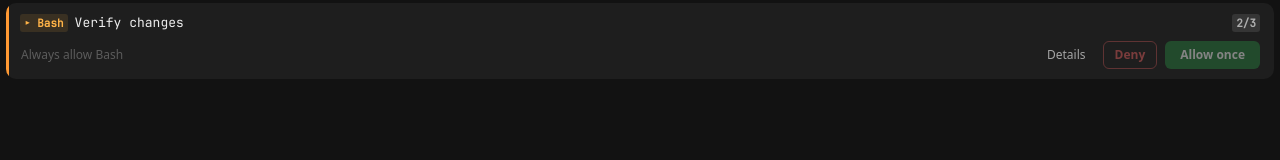
Test: RequestCard › lets users inspect an inline request whose turn to decide has not arrived
expect the text "Verify changes" is shown: met, box x1=75 y1=13 x2=184 y2=32
expect the button "Allow once" is disabled: met, box x1=1165 y1=40 x2=1260 y2=69
Click the button "Details" at (1066, 55), box x1=1038 y1=40 x2=1094 y2=69
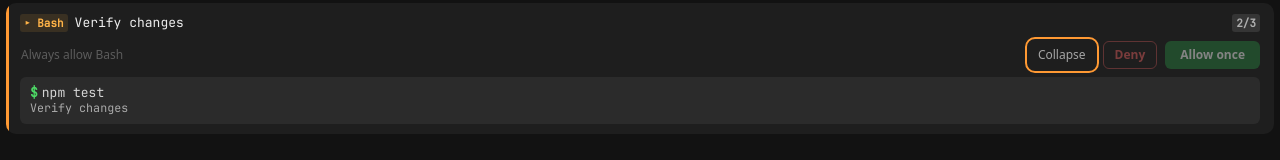
expect the text "npm test" is shown: met, box x1=42 y1=85 x2=104 y2=101
